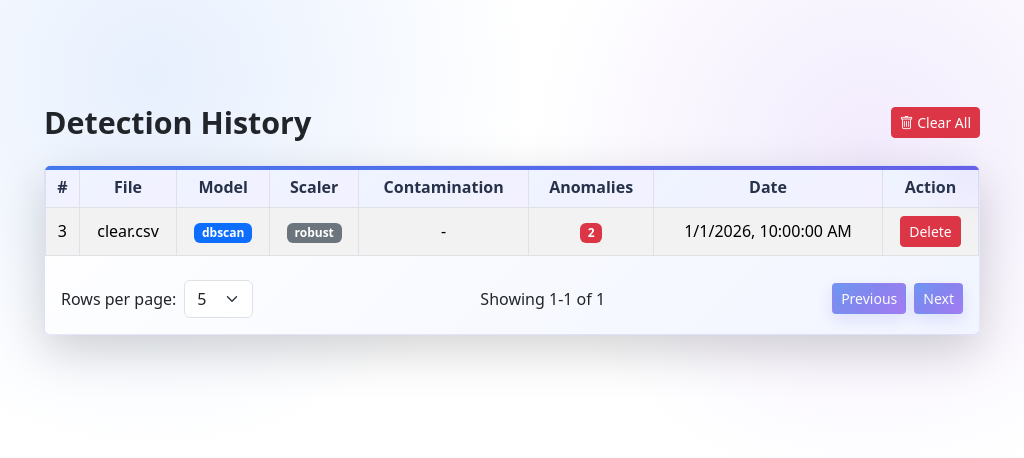
Test: History page › clears all history
The image size is (1024, 458).
Expected: the text "clear.csv" is shown, [79,207,177,255]
Click the button "Clear All" at coordinates (935, 122), box [890,107,980,138]
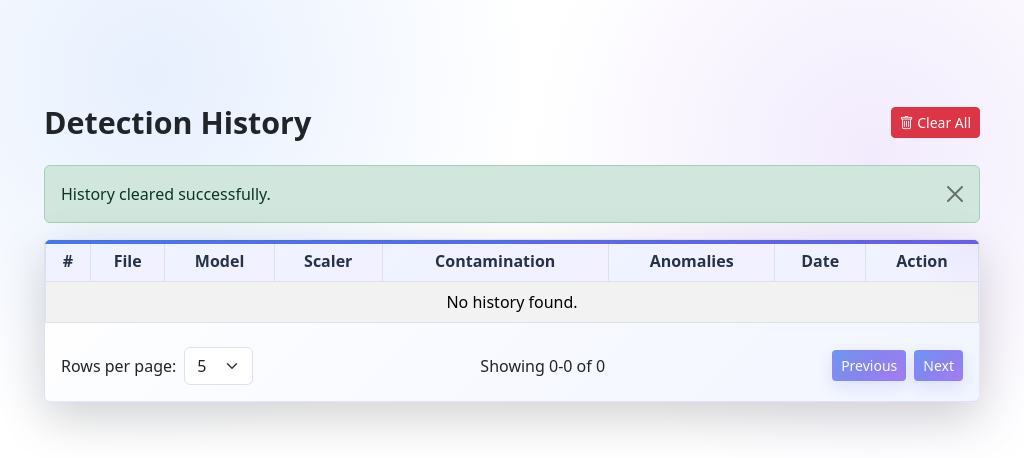
Expected: the text "No history found." is shown, [46,281,978,322]
